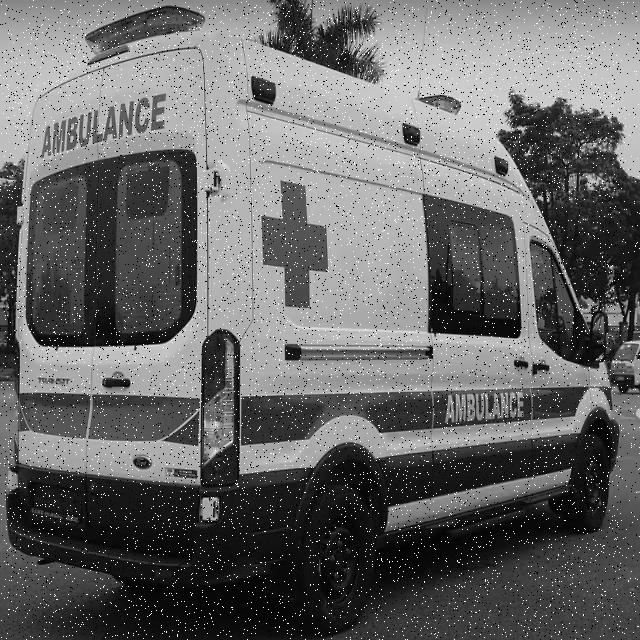Ambulance: (4, 5, 621, 638)
